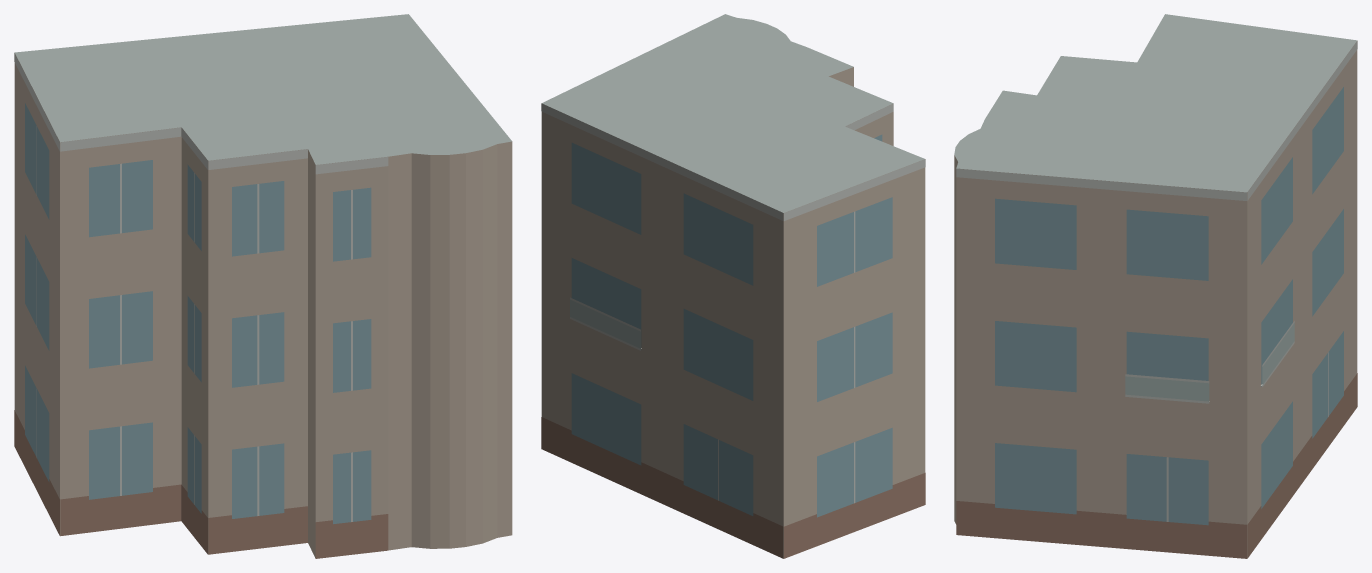
Rendered from survey-upis-32510599.glb.
The picture shows the model from 3 angles, left to right: view 1: azimuth 30°, elevation 25°; view 2: azimuth 150°, elevation 25°; view 3: azimuth 270°, elevation 25°; orthographic projection. The views are drawn at different scales.
Visible parts, largest first — view 1: survey-upis-32510599.tmp; view 2: survey-upis-32510599.tmp; view 3: survey-upis-32510599.tmp.
Part boxes in pixels (<box>): survey-upis-32510599.tmp: <box>14,14,512,558</box>; survey-upis-32510599.tmp: <box>541,14,925,558</box>; survey-upis-32510599.tmp: <box>954,14,1357,558</box>.
Bounding box in the file's own units: 10.66 × 10.2 × 10.18.
